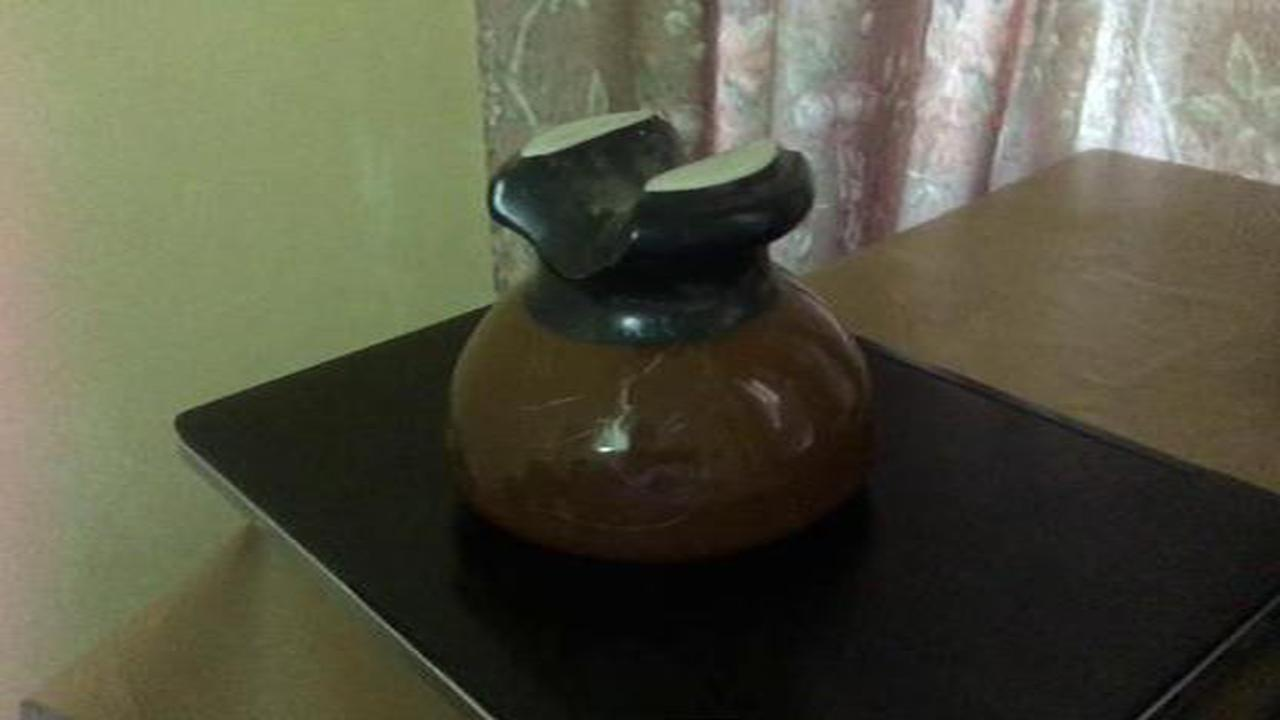insulator_pin: (425, 90, 914, 572)
